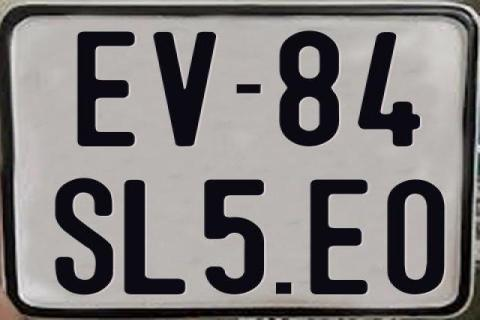0: (355, 32, 419, 150), (276, 30, 339, 146), (201, 177, 261, 293), (387, 178, 446, 294)
E: (74, 29, 136, 147), (310, 179, 369, 295)
L: (122, 180, 187, 296)
S: (55, 176, 114, 298)
V: (152, 31, 217, 146)
